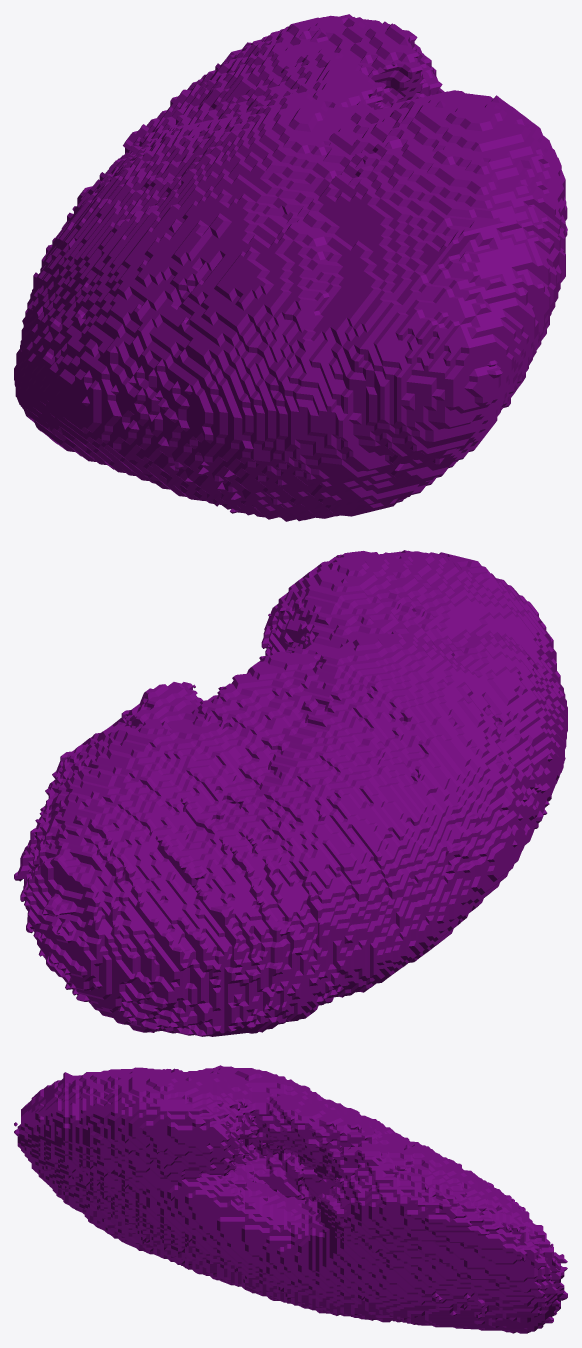
The model's file is kidney-right-vu500.glb.
3 views of the same model, one above another, from view 1: azimuth 30°, elevation 25°; view 2: azimuth 150°, elevation 25°; view 3: azimuth 270°, elevation 25° (orthographic). The views are drawn at different scales.
Parts seen in each view (by area): view 1: world; view 2: world; view 3: world.
Part boxes in pixels (bbox=[...]): world: bbox=[14, 14, 567, 521]; world: bbox=[14, 550, 567, 1036]; world: bbox=[14, 1065, 567, 1333].
Size of the model in its own units: 78.7 by 68.44 by 134.
